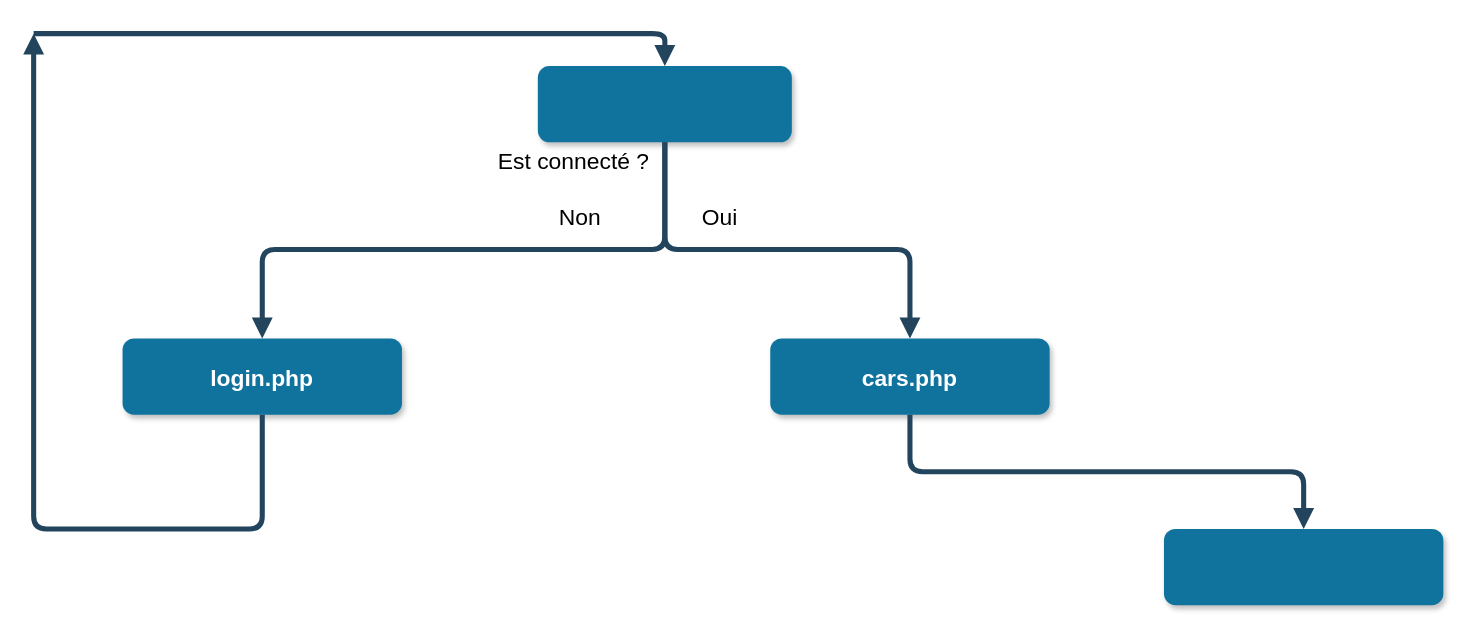
This 1472x635 diagram has some shape labels left out. The shapes that lost their labels are listed below. From the top down, each one's centre as x and y in pixels, then its label:
the point at 665,105: index.php
the point at 1304,568: profil.php
